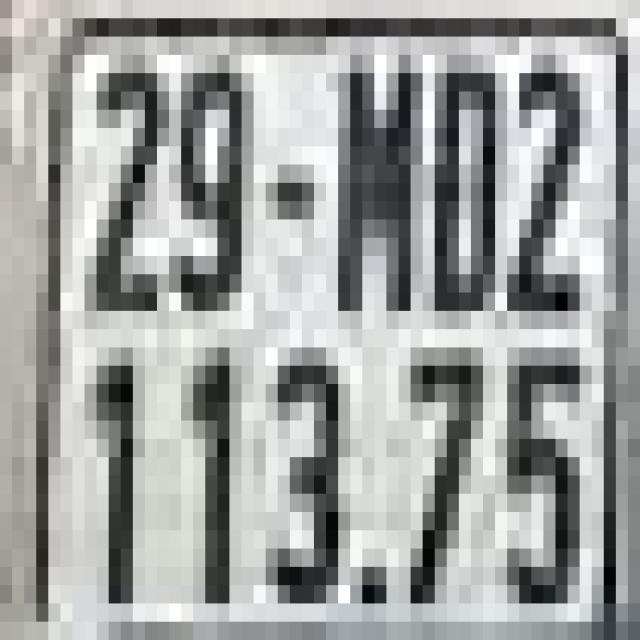1: (90, 366, 139, 603), (187, 366, 236, 603)
2: (513, 73, 586, 311), (91, 73, 163, 311)
3: (272, 357, 344, 594)
5: (507, 348, 580, 604)
7: (405, 348, 477, 604)
9: (175, 73, 248, 311)
D: (429, 73, 501, 311)
M: (332, 46, 417, 320)
